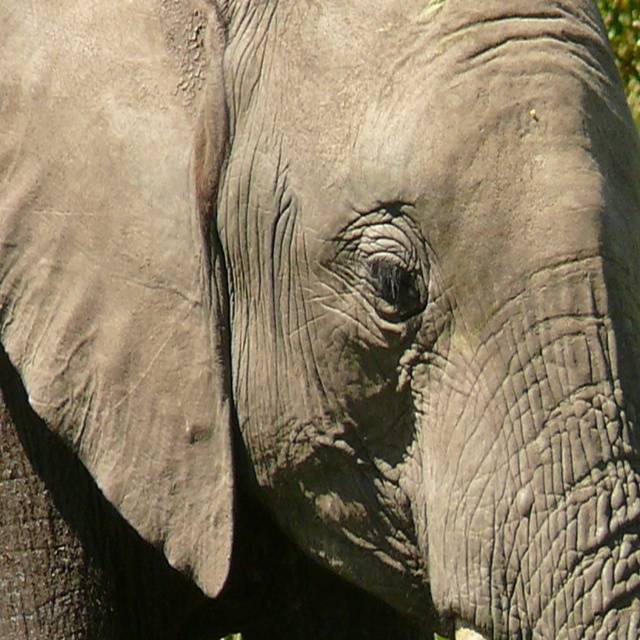Elephant: (90, 9, 640, 640)
